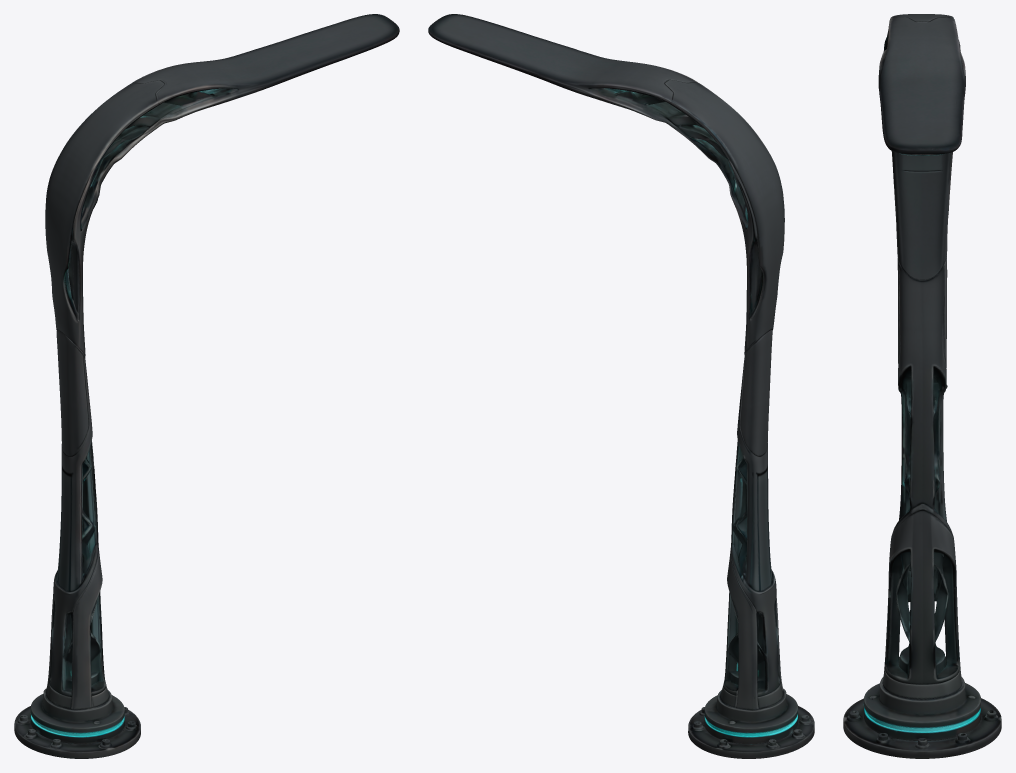
Rendered from lamp-a.glb.
3 views of the same model, side by side, from view 1: azimuth 30°, elevation 25°; view 2: azimuth 150°, elevation 25°; view 3: azimuth 270°, elevation 25° (orthographic). The views are drawn at different scales.
Visible parts, largest first — view 1: tripo_node_e70e32a2-68e8-4f06-9490-9f58fe7ab388; view 2: tripo_node_e70e32a2-68e8-4f06-9490-9f58fe7ab388; view 3: tripo_node_e70e32a2-68e8-4f06-9490-9f58fe7ab388.
Boxes of the visible parts, <box> form: tripo_node_e70e32a2-68e8-4f06-9490-9f58fe7ab388: <box>14,14,399,758</box>; tripo_node_e70e32a2-68e8-4f06-9490-9f58fe7ab388: <box>428,14,814,758</box>; tripo_node_e70e32a2-68e8-4f06-9490-9f58fe7ab388: <box>843,14,1001,758</box>.
Bounding box in the file's own units: 0.5957 × 0.9788 × 0.1843.
1 material, 1 textured.
